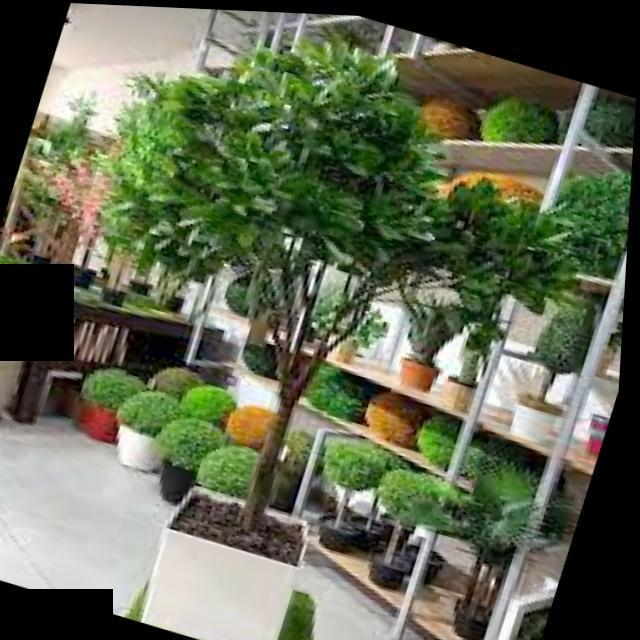tree: (23, 1, 611, 592)
